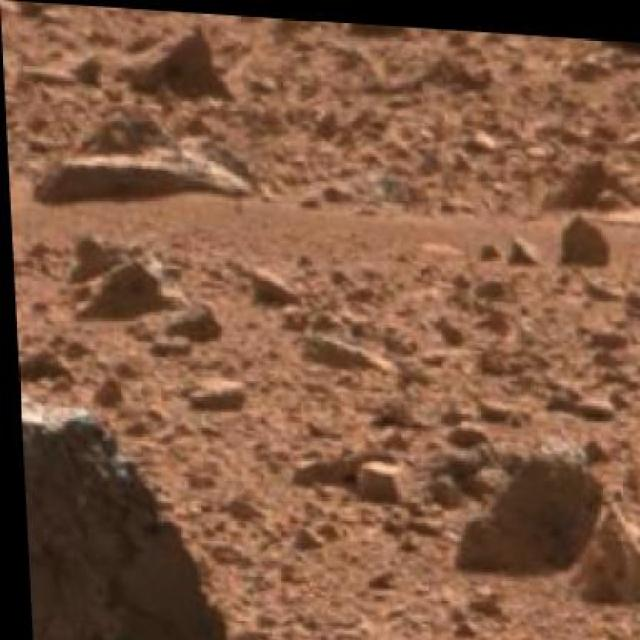rock: (14, 376, 229, 638), (25, 98, 272, 215), (440, 413, 609, 576), (568, 497, 638, 605), (562, 202, 613, 260)
